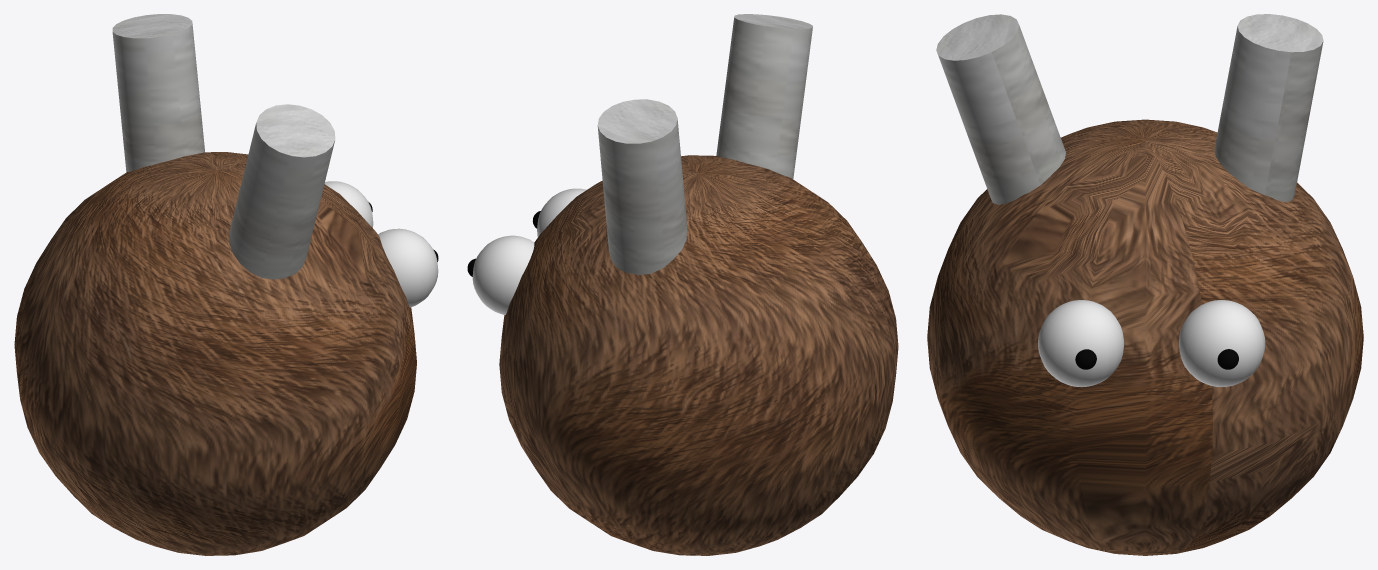
Rendered from Rabbit.fbx.
3 views of the same model, side by side, from view 1: azimuth 30°, elevation 25°; view 2: azimuth 150°, elevation 25°; view 3: azimuth 270°, elevation 25° (orthographic). The views are drawn at different scales.
Parts seen in each view (by area): view 1: Head, pasted__Ear_2, Ear_2, Eye_2, Eye_1; view 2: Head, Ear_2, pasted__Ear_2, Eye_1, Eye_2; view 3: Head, pasted__Ear_2, Ear_2, Eye_1, Eye_2.
Part boxes in pixels (<box>): Head: <box>14,152,416,555</box>; pasted__Ear_2: <box>229,104,335,279</box>; Ear_2: <box>112,14,204,172</box>; Eye_2: <box>378,228,438,307</box>; Eye_1: <box>324,181,373,227</box>; Head: <box>499,155,898,555</box>; Ear_2: <box>597,99,687,274</box>; pasted__Ear_2: <box>716,14,812,178</box>; Eye_1: <box>472,235,534,314</box>; Eye_2: <box>537,188,586,236</box>; Head: <box>927,119,1363,555</box>; pasted__Ear_2: <box>936,14,1065,204</box>; Ear_2: <box>1214,14,1323,202</box>; Eye_1: <box>1179,300,1265,387</box>; Eye_2: <box>1038,300,1123,387</box>.
Size of the model in its own units: 2.11 by 2.59 by 2.
7 materials, 3 textured.
